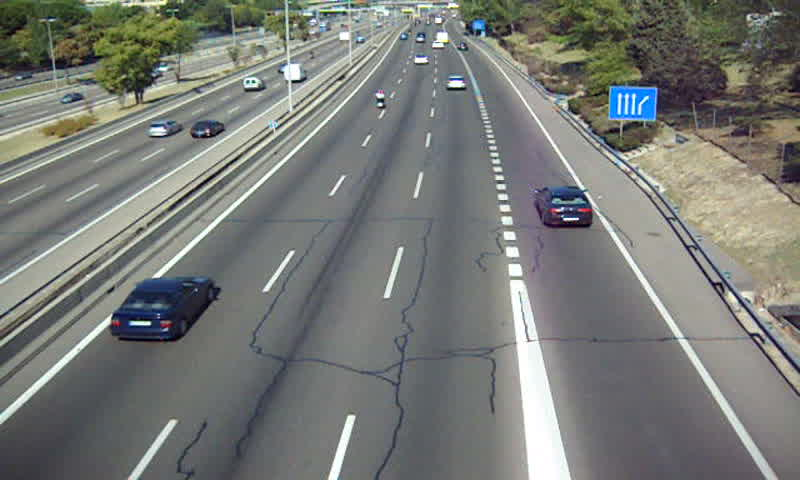car: (109, 278, 214, 339), (535, 186, 594, 227), (446, 75, 467, 90)
motorcycle: (372, 88, 388, 111)
